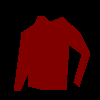abbigliamento_uomo: (13, 15, 90, 91)
